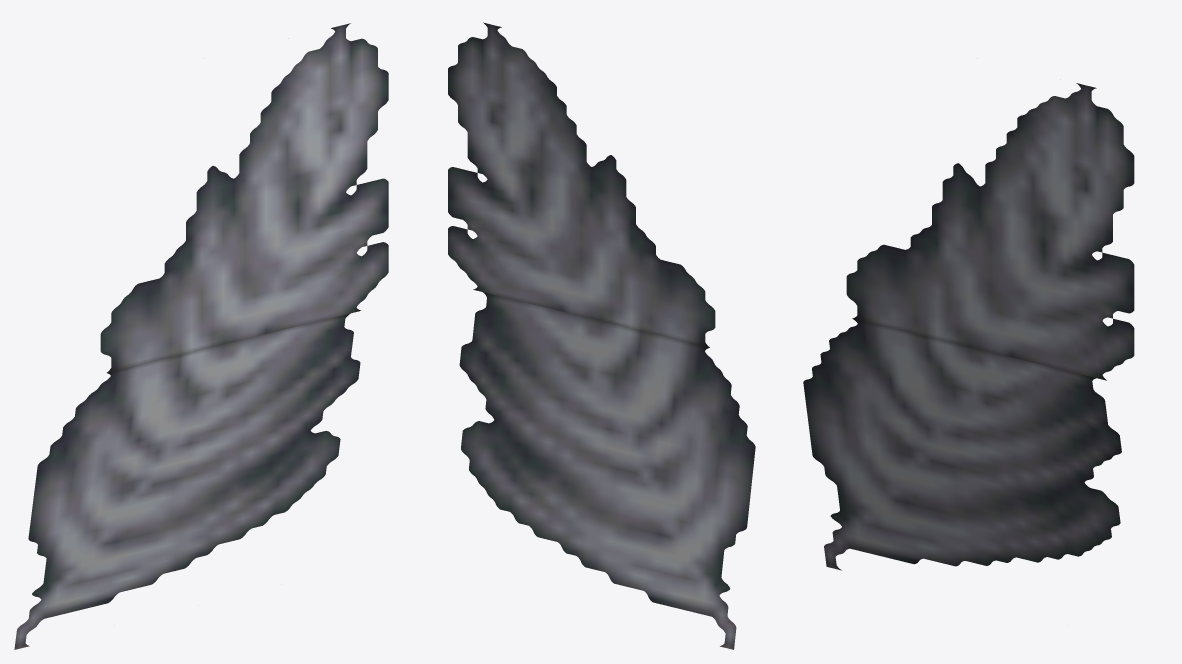
3 views of the same model, side by side, from view 1: azimuth 30°, elevation 25°; view 2: azimuth 150°, elevation 25°; view 3: azimuth 330°, elevation 25° (orthographic). The views are drawn at different scales.
Visible parts, largest first — view 1: T1L6M003_10; view 2: T1L6M003_10; view 3: T1L6M003_10.
Boxes of the visible parts, x1=… form: T1L6M003_10: x1=14, y1=23, x2=388, y2=649; T1L6M003_10: x1=448, y1=22, x2=755, y2=649; T1L6M003_10: x1=803, y1=83, x2=1134, y2=570.
Bounding box in the file's own units: 0.1045 × 0.1689 × 0.0176.
Materials: 1 (1 with a texture image).
